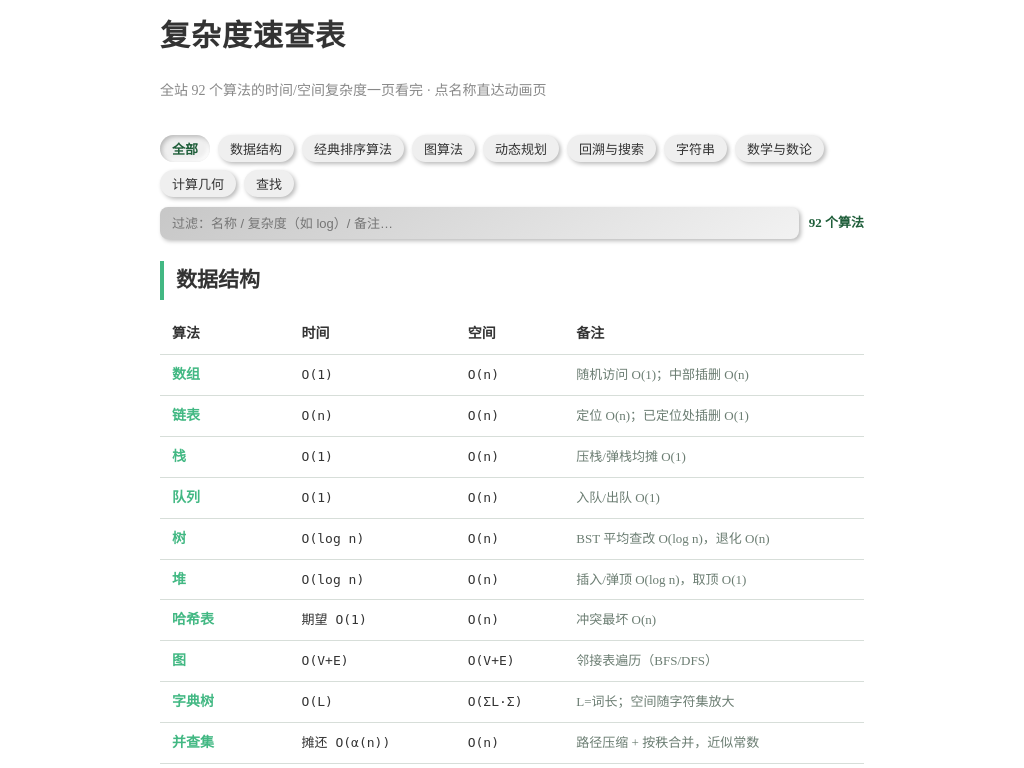
复杂度速查页 › TC-VIEW-CPLX-02 点大类标签只显该组；「全部」还原
The image size is (1024, 768).
Click the button with class "cx-tag" showing "查找" at (269, 184), box left=244, top=170, right=294, bottom=197
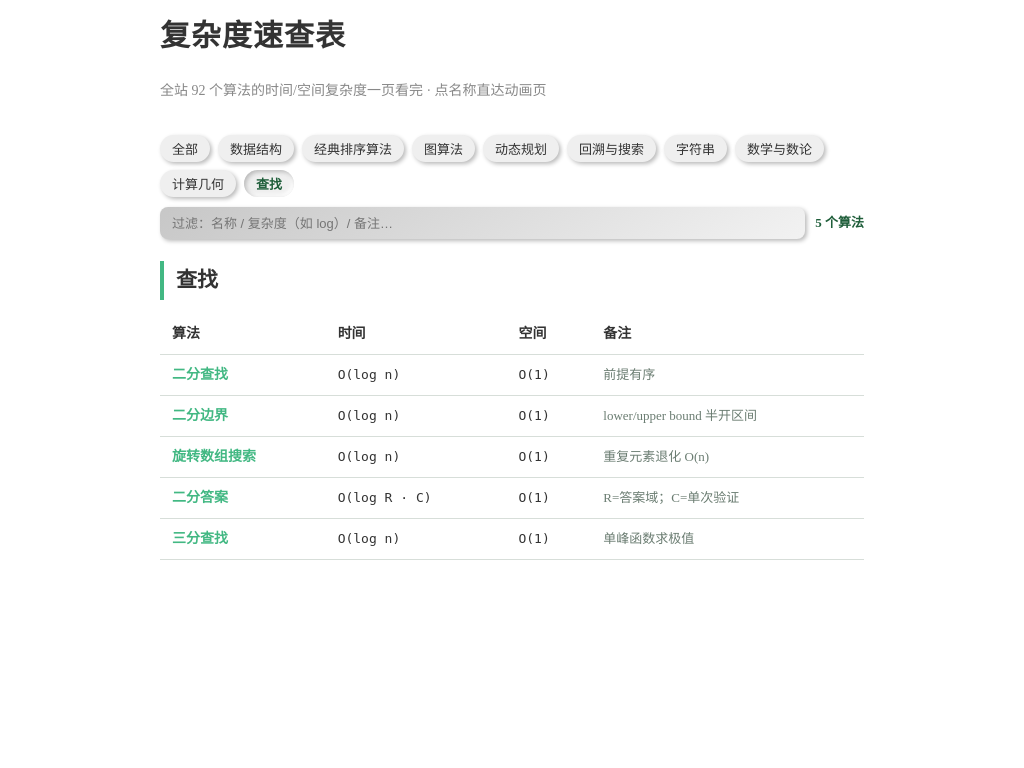
Result: the number of elements with class "cx-group" is 1 at left=160, top=261, right=864, bottom=560
Result: the text with class "cx-count" shows "5" at left=815, top=215, right=864, bottom=230
Click the button with class "cx-tag" showing "全部" at (185, 149), box left=160, top=135, right=210, bottom=162
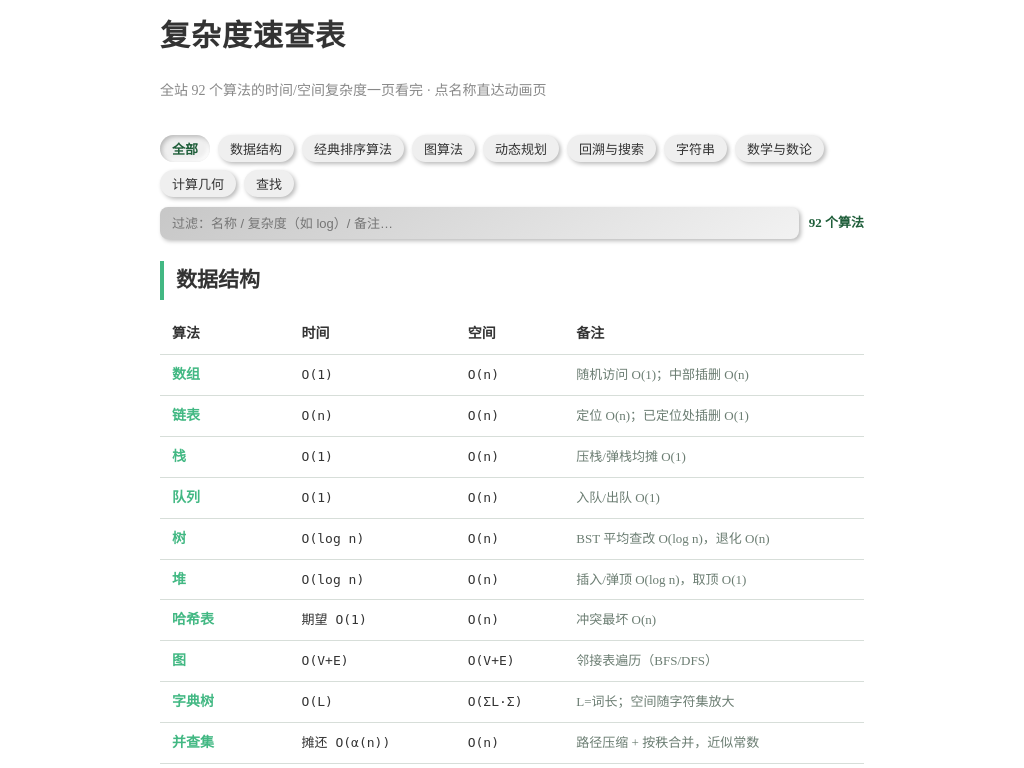
Result: the number of elements with class "cx-group" is 9
